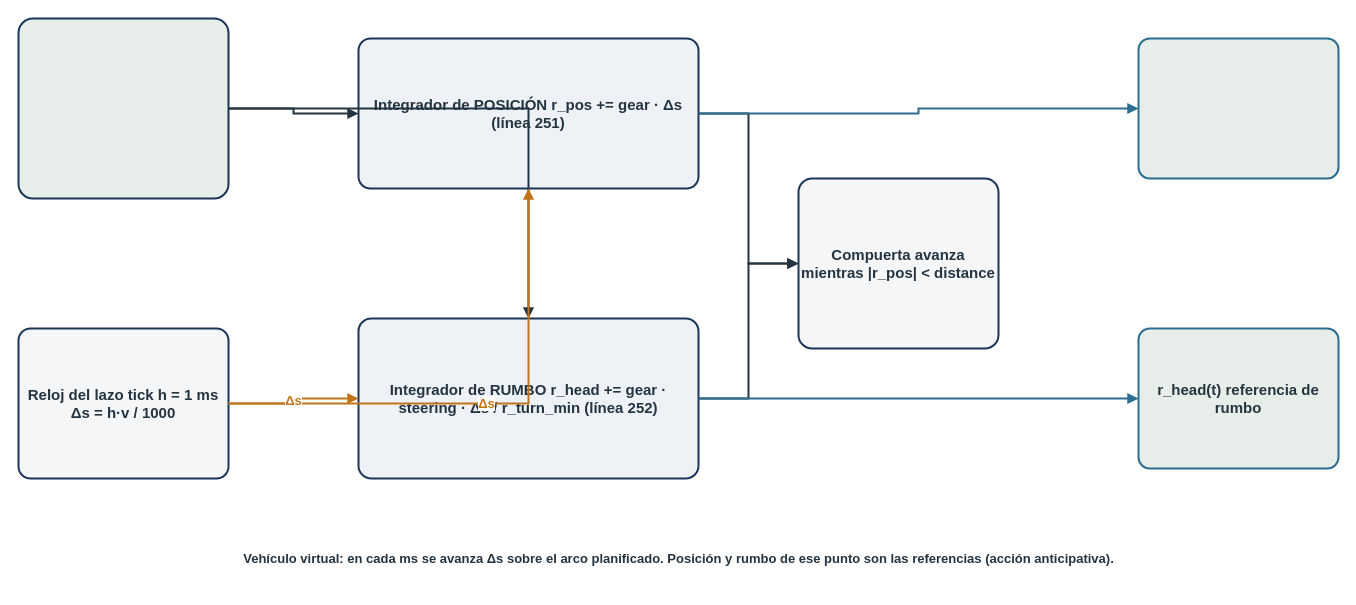
This 1356x605 diagram has some shape labels left out. Here are the shapes that lost their labels. From the top down, the box of each, then its label:
(17, 17, 229, 199): Tramo Reeds-Shepp distance steering (±1, 0) gear (±1)
(1137, 37, 1339, 179): r_pos(t) referencia de posición
